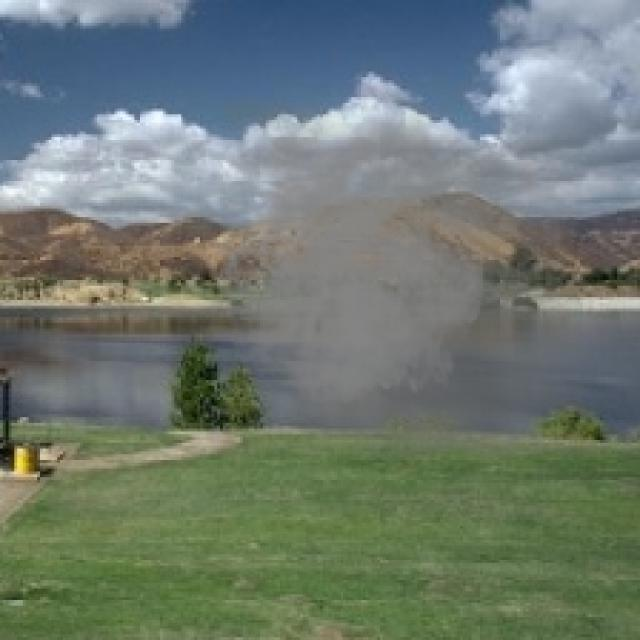smoke: (208, 97, 583, 463)
